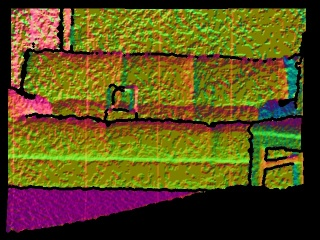station: (103, 84, 140, 121)
